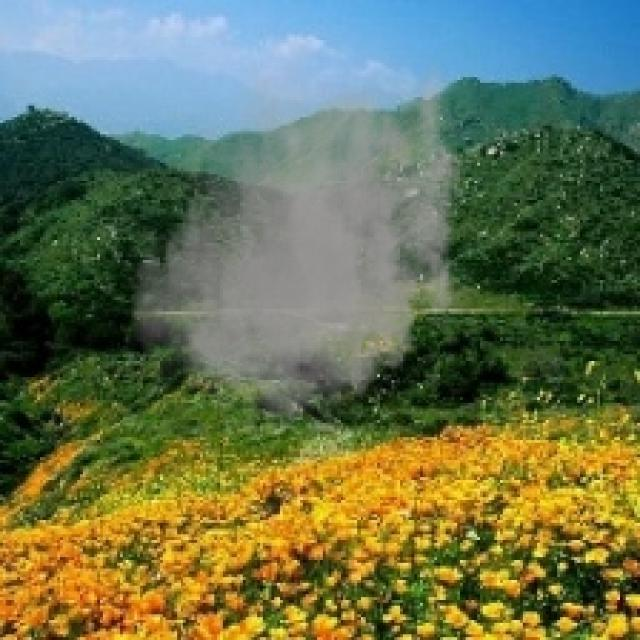Smoke: (120, 51, 480, 443)
